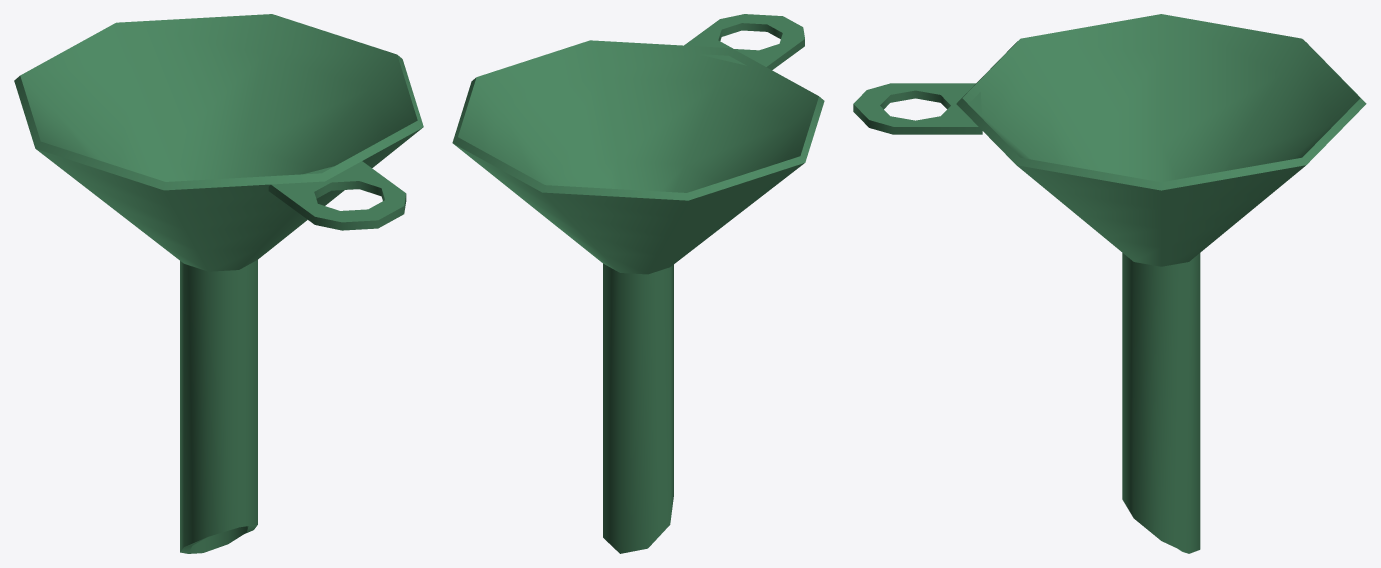
Rendered from prop-funnel.glb.
The picture shows the model from 3 angles, left to right: view 1: azimuth 30°, elevation 25°; view 2: azimuth 150°, elevation 25°; view 3: azimuth 270°, elevation 25°; orthographic projection. The views are drawn at different scales.
Visible parts, largest first — view 1: funnel_small_Cylinder.008; view 2: funnel_small_Cylinder.008; view 3: funnel_small_Cylinder.008.
Boxes of the visible parts, box(x1,y1,x2,y2) form: funnel_small_Cylinder.008: box(14, 14, 423, 553); funnel_small_Cylinder.008: box(452, 14, 824, 553); funnel_small_Cylinder.008: box(853, 14, 1366, 553).
Size of the model in its own units: 2 by 2.42 by 2.5.
Materials: 1 (1 with a texture image).
